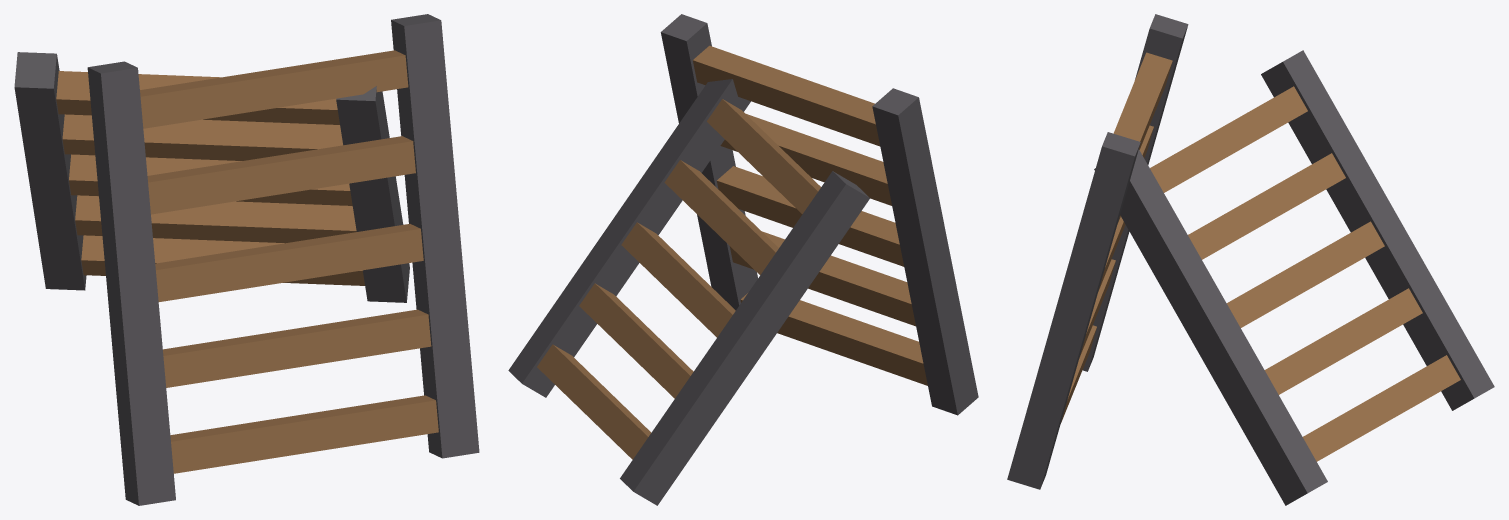
The model's file is Rails 2.fbx.
3 views of the same model, side by side, from view 1: azimuth 30°, elevation 25°; view 2: azimuth 150°, elevation 25°; view 3: azimuth 270°, elevation 25° (orthographic). The views are drawn at different scales.
Visible parts, largest first — view 1: Cube.014, рельсы, Cube.015; view 2: Cube.014, Cube.015, рельсы; view 3: Cube.015, Cube.014.
Part boxes in pixels (x1,y1,x2,y2): Cube.014: (87, 14, 479, 505); рельсы: (14, 52, 406, 302); Cube.015: (14, 52, 409, 302); Cube.014: (660, 14, 978, 415); Cube.015: (508, 79, 868, 491); рельсы: (522, 79, 869, 505); Cube.015: (1094, 50, 1492, 505); Cube.014: (1007, 14, 1188, 489).
Bounding box in the file's own units: 290 × 268 × 340.
